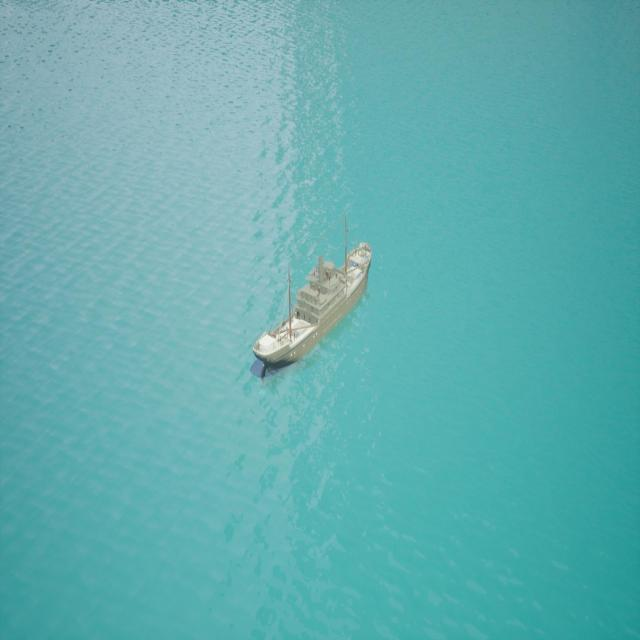fishing ship: (250, 246, 372, 373)
